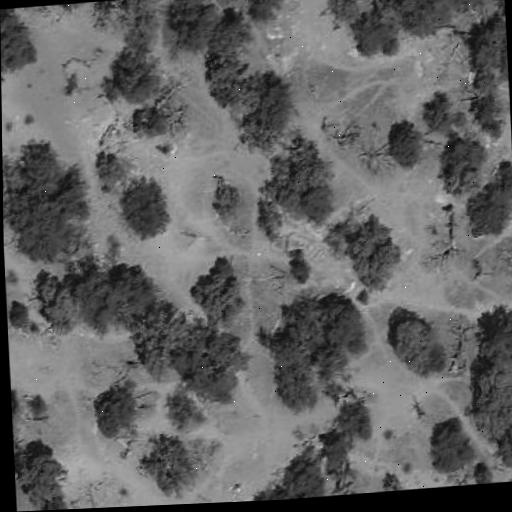tree-top: (10, 141, 90, 264), (273, 283, 369, 373), (261, 140, 337, 227), (170, 331, 245, 408), (85, 258, 161, 326), (230, 80, 295, 157), (382, 303, 446, 376), (141, 429, 206, 500), (344, 218, 407, 291), (13, 434, 69, 511), (189, 257, 247, 331), (102, 46, 167, 111), (307, 288, 367, 358), (461, 9, 509, 93), (244, 455, 331, 501), (434, 134, 491, 203), (465, 356, 512, 437), (116, 177, 171, 242), (163, 0, 224, 54), (29, 274, 84, 332), (332, 390, 385, 447), (422, 413, 473, 471), (89, 382, 140, 439), (128, 326, 179, 382), (208, 4, 262, 55), (357, 0, 405, 55), (0, 6, 39, 72), (197, 48, 243, 103), (415, 88, 463, 136), (274, 366, 323, 413), (464, 189, 509, 239), (383, 120, 429, 167), (399, 0, 463, 33), (476, 306, 512, 362), (114, 0, 167, 37), (209, 179, 250, 224), (91, 149, 128, 190), (317, 432, 354, 471), (484, 150, 512, 199), (2, 145, 18, 226), (6, 295, 38, 332), (492, 421, 512, 476), (327, 0, 362, 29), (465, 457, 501, 485), (10, 373, 25, 437), (168, 0, 215, 18), (247, 0, 281, 24), (52, 0, 102, 13), (481, 0, 505, 15), (32, 504, 77, 511), (209, 0, 261, 3)
